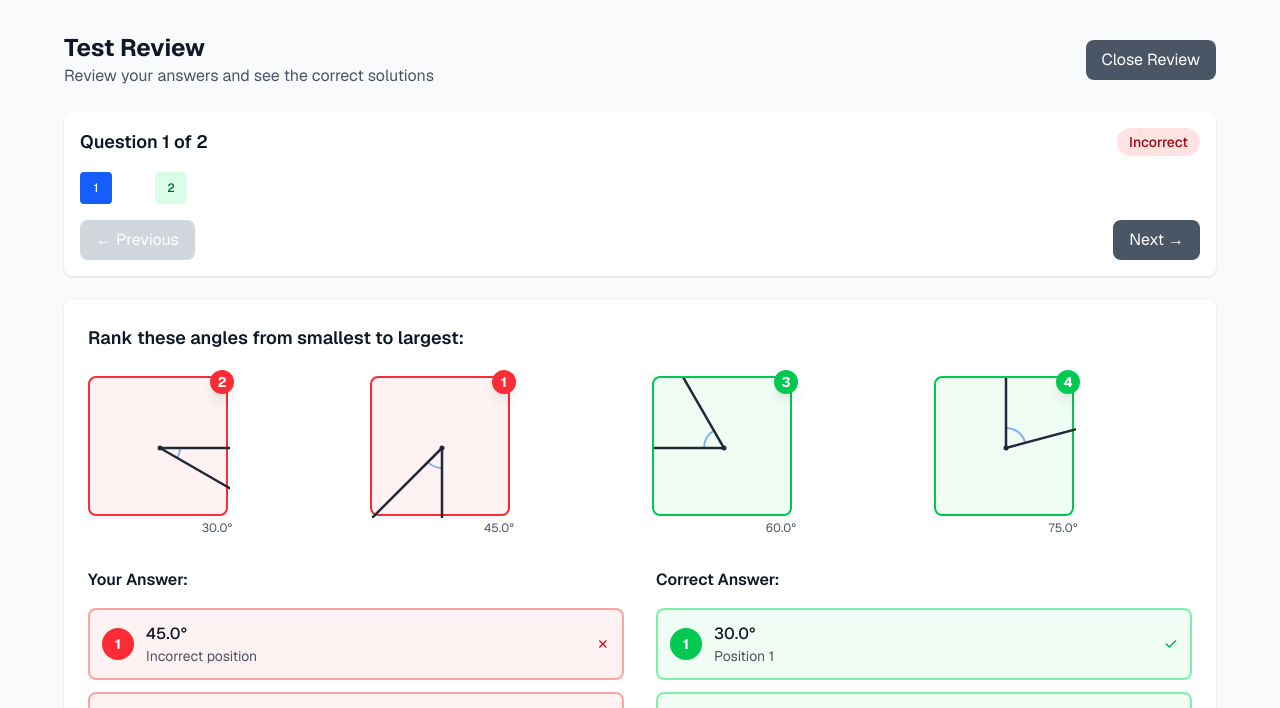
TestReview › handles navigation for multiple questions
The image size is (1280, 708).
Expected: the heading "Question 1 of 2" is shown, [80, 128, 208, 156]
Note: Test next button
Click the button "Next →" at (1157, 240), box [1113, 220, 1200, 260]
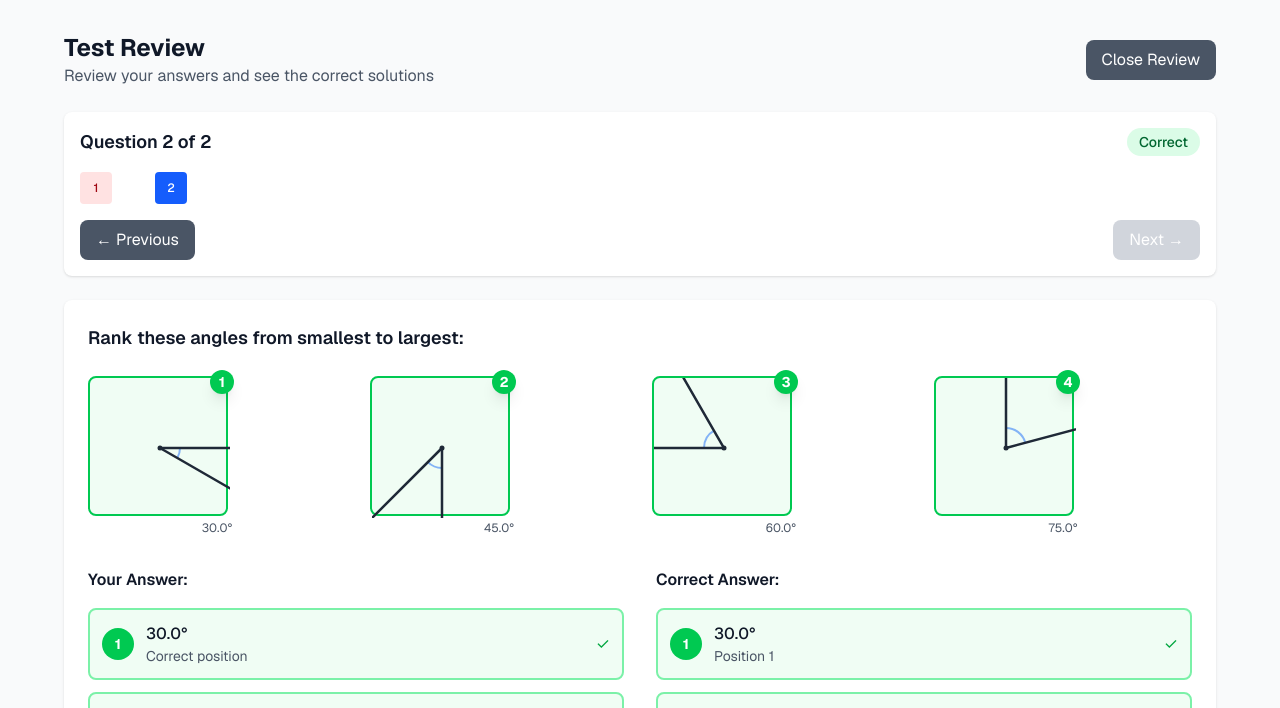
Expected: the heading "Question 2 of 2" is shown, [80, 128, 212, 156]
Note: Test previous button
Click the button "← Previous" at (137, 240), box [80, 220, 195, 260]
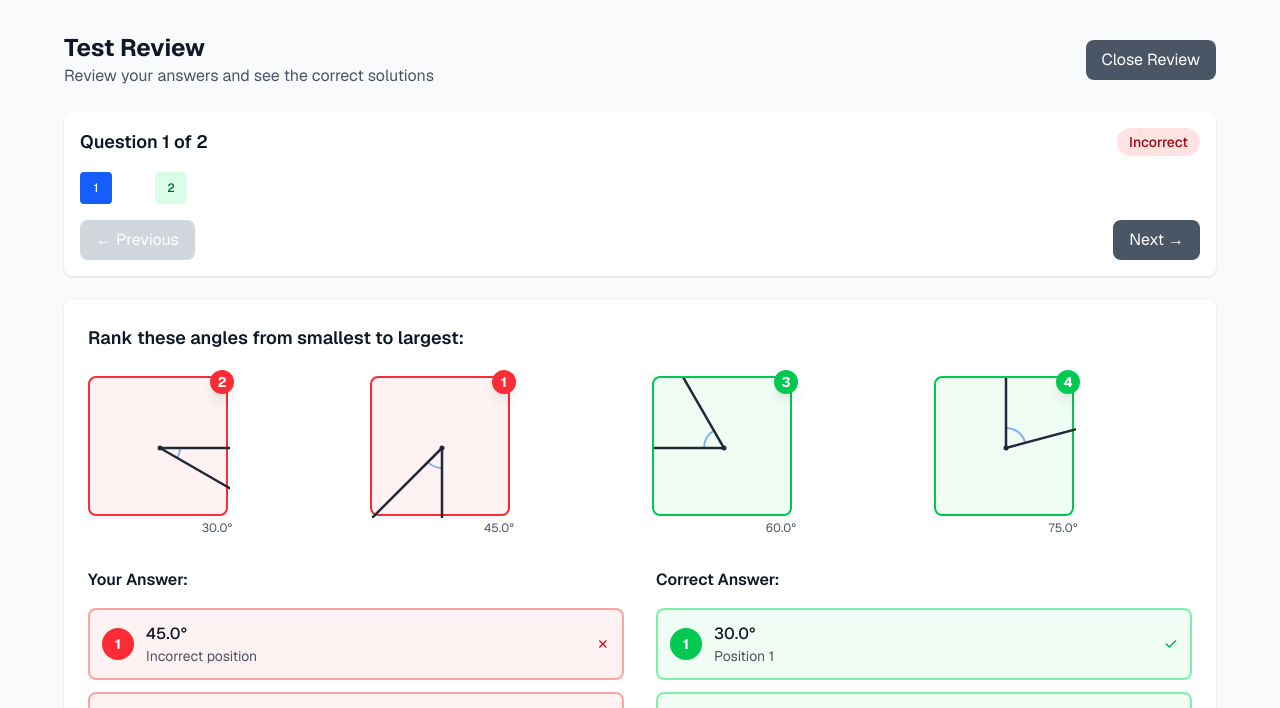
Expected: the heading "Question 1 of 2" is shown, [80, 128, 208, 156]
